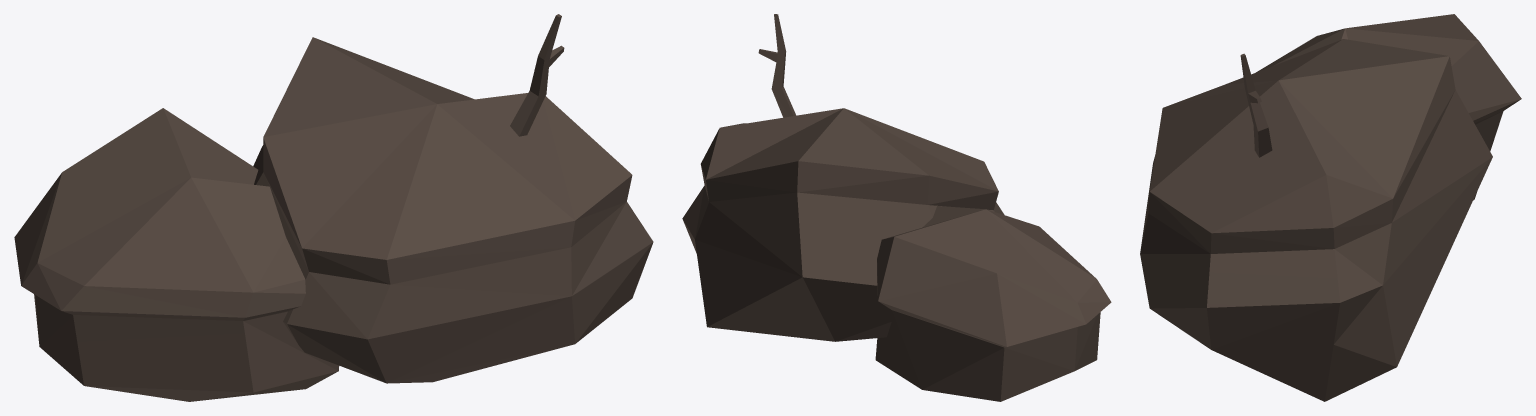
The model's file is rock2.glb.
The picture shows the model from 3 angles, left to right: view 1: azimuth 30°, elevation 25°; view 2: azimuth 150°, elevation 25°; view 3: azimuth 270°, elevation 25°; orthographic projection. The views are drawn at different scales.
Parts seen in each view (by area): view 1: Bush_winter_003; view 2: Bush_winter_003; view 3: Bush_winter_003.
Part boxes in pixels (x1=…): Bush_winter_003: x1=14, y1=14, x2=653, y2=401; Bush_winter_003: x1=682, y1=14, x2=1111, y2=401; Bush_winter_003: x1=1140, y1=14, x2=1521, y2=401.
Bounding box in the file's own units: 2.52 × 1.61 × 1.65.
